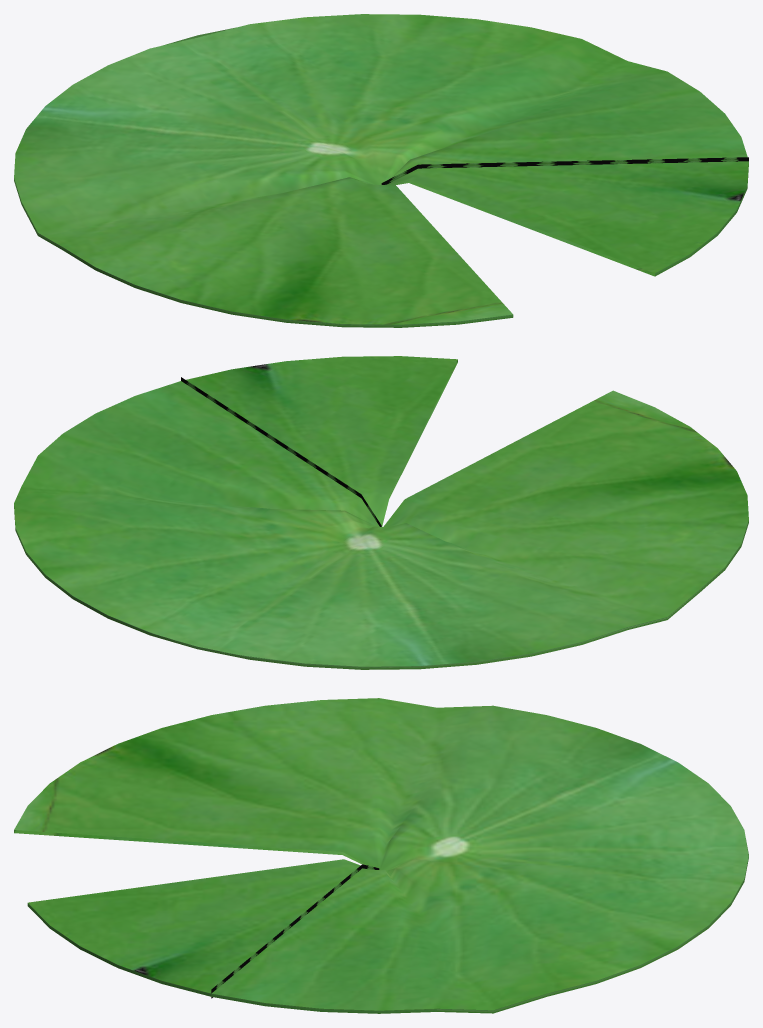
The model's file is FBX lilly pad.fbx.
3 renders of one model, top to bottom at view 1: azimuth 30°, elevation 25°; view 2: azimuth 150°, elevation 25°; view 3: azimuth 270°, elevation 25°, orthographic.
Parts seen in each view (by area): view 1: lilly_pad; view 2: lilly_pad; view 3: lilly_pad.
Boxes of the visible parts, left/top/right/bottom form: lilly_pad: left=14, top=14, right=748, bottom=327; lilly_pad: left=14, top=356, right=748, bottom=669; lilly_pad: left=14, top=698, right=748, bottom=1013.
Size of the model in its own units: 1.46 by 0.0531 by 1.46.
1 material, 1 textured.
